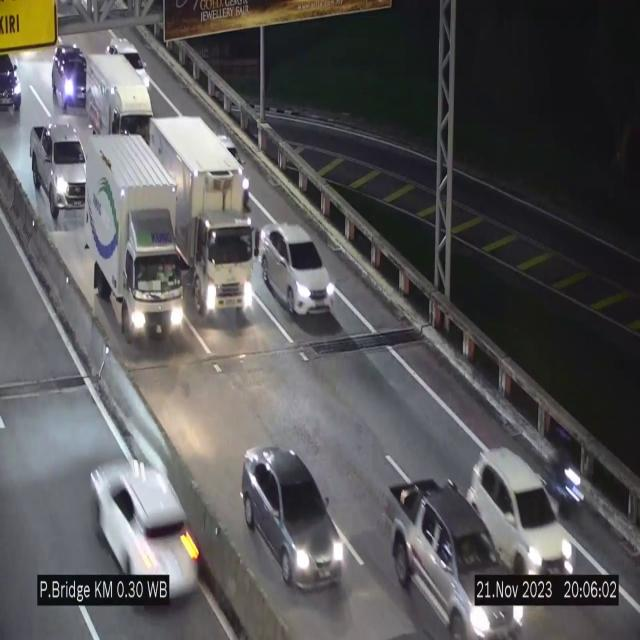Car: (74, 440, 214, 620), (388, 481, 524, 637), (242, 446, 344, 587), (466, 448, 572, 574), (254, 223, 334, 319), (28, 122, 92, 214), (0, 39, 34, 120), (50, 42, 88, 114)
Motorcycle: (555, 430, 582, 514)
Truck: (149, 115, 254, 320), (86, 133, 186, 343), (82, 49, 154, 144)
